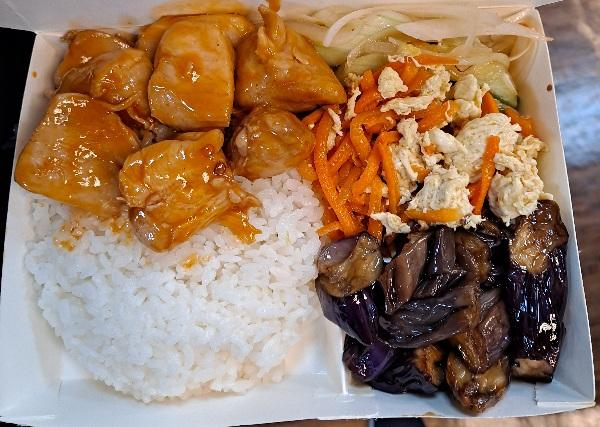big grilled chicken leg: (0, 8, 600, 418)
big herbal chicken leg: (21, 177, 329, 391)
braised fish fillet: (338, 219, 574, 399), (331, 68, 546, 216), (334, 9, 537, 108)
braised pork: (29, 13, 325, 222)
